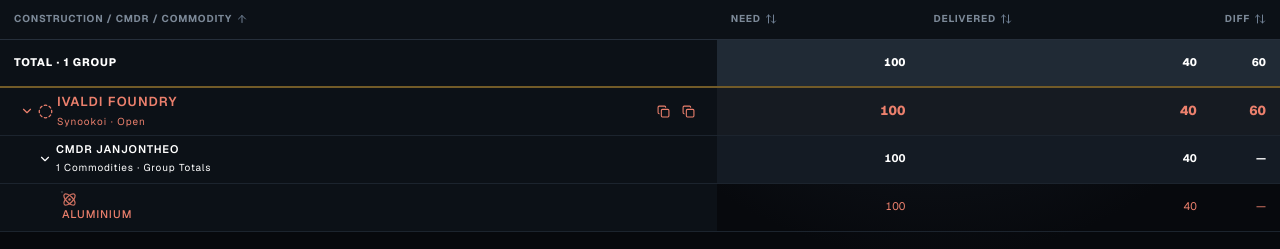
Test: Colonisation grouped table › collapses Construction and Cmdr levels independently
This screenshot has width=1280, height=249.
Expected: the text "Aluminium" is shown, [62,206,132,220]
Click the button with aria-label "Collapse Cmdr JanJonTheo" at {"x": 76, "y": 149}, box [38,142,703,176]
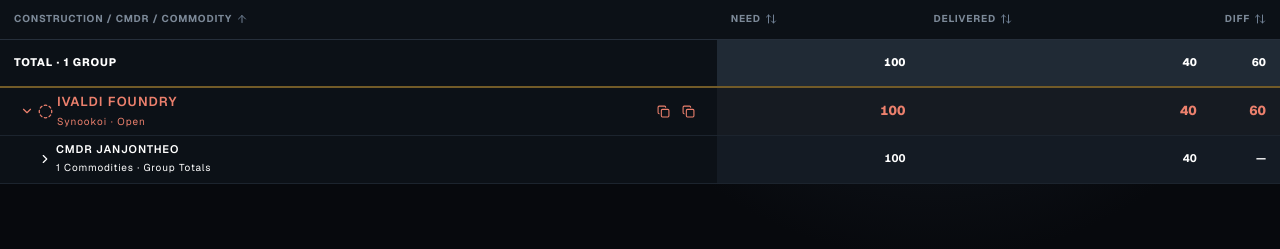
Result: the button with aria-label "Expand Cmdr JanJonTheo" is collapsed at [38,142,703,176]
Result: the text "Aluminium" is gone
Click the button with aria-label "Collapse construction Ivaldi Foundry" at {"x": 117, "y": 102}, box [20,93,649,129]
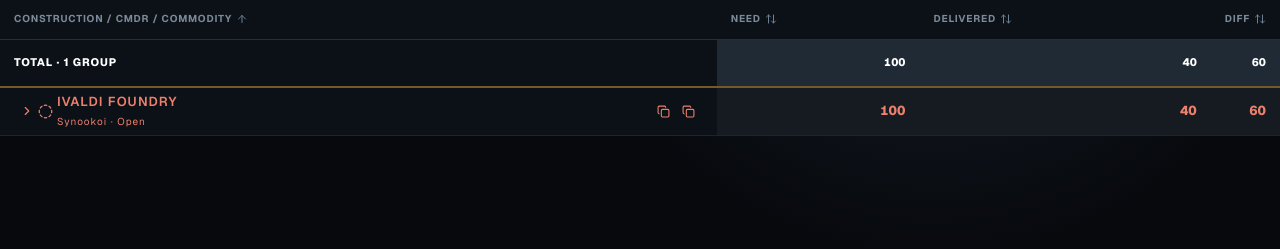
Result: the button with aria-label "Expand construction Ivaldi Foundry" is collapsed at [20,93,649,129]
Result: the button "Cmdr JanJonTheo" is gone
